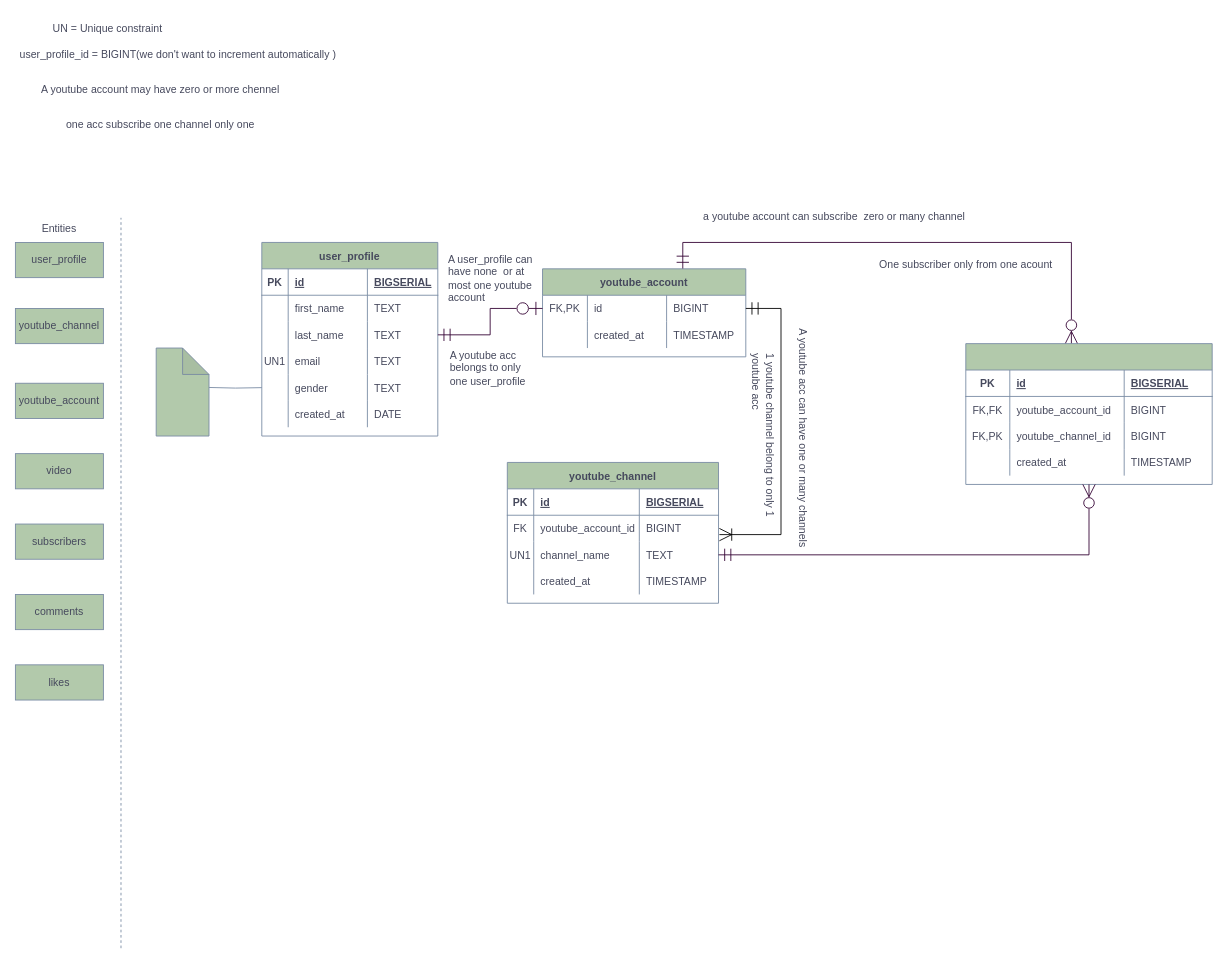
The diagram is 1228 pixels wide and 964 high, and some of its shapes have lost their labels. The box of each missing label's shape, as (x1, y1, x2, y2) in pixels:
channel_subscriber: (965, 343, 1212, 484)
MALE FEMALE: (155, 347, 209, 436)
